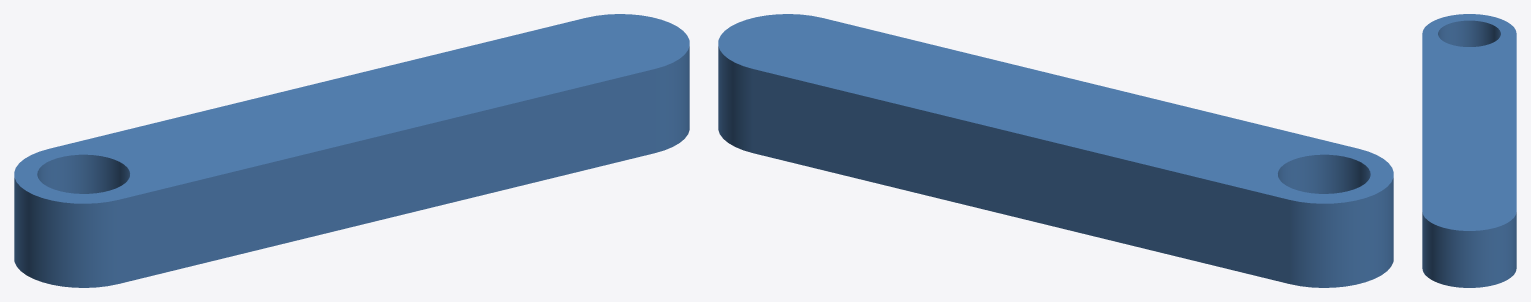
File: body.dae
The picture shows the model from 3 angles, left to right: view 1: azimuth 30°, elevation 25°; view 2: azimuth 150°, elevation 25°; view 3: azimuth 270°, elevation 25°; orthographic projection. The views are drawn at different scales.
Visible parts, largest first — view 1: ID2; view 2: ID2; view 3: ID2.
Part boxes in pixels (x1,y1,x2,y2): ID2: (14, 14, 689, 287); ID2: (718, 14, 1393, 287); ID2: (1422, 14, 1516, 287).
Bounding box in the file's own units: 0.2448 × 0.045 × 0.03.
